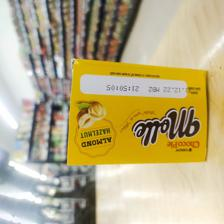Molle: (63, 56, 211, 167)
